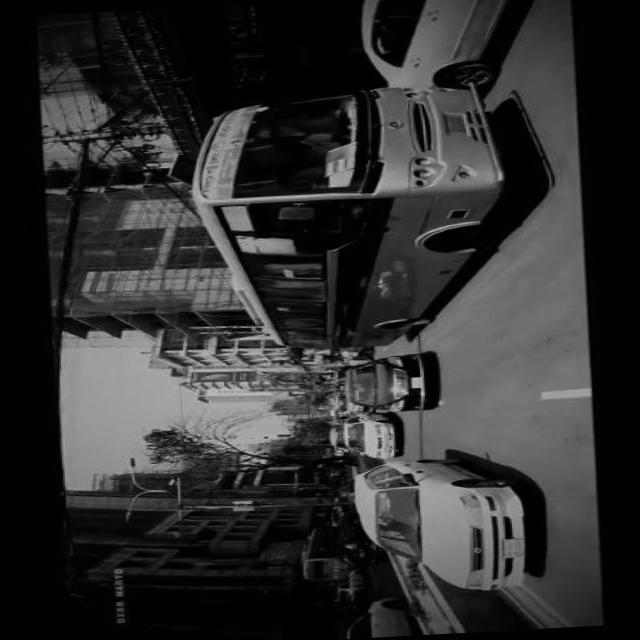bus: (184, 80, 511, 357), (294, 527, 348, 583)
car: (348, 452, 524, 598), (354, 0, 515, 84), (337, 354, 424, 417), (339, 598, 409, 640), (338, 412, 392, 462), (333, 518, 377, 570)
